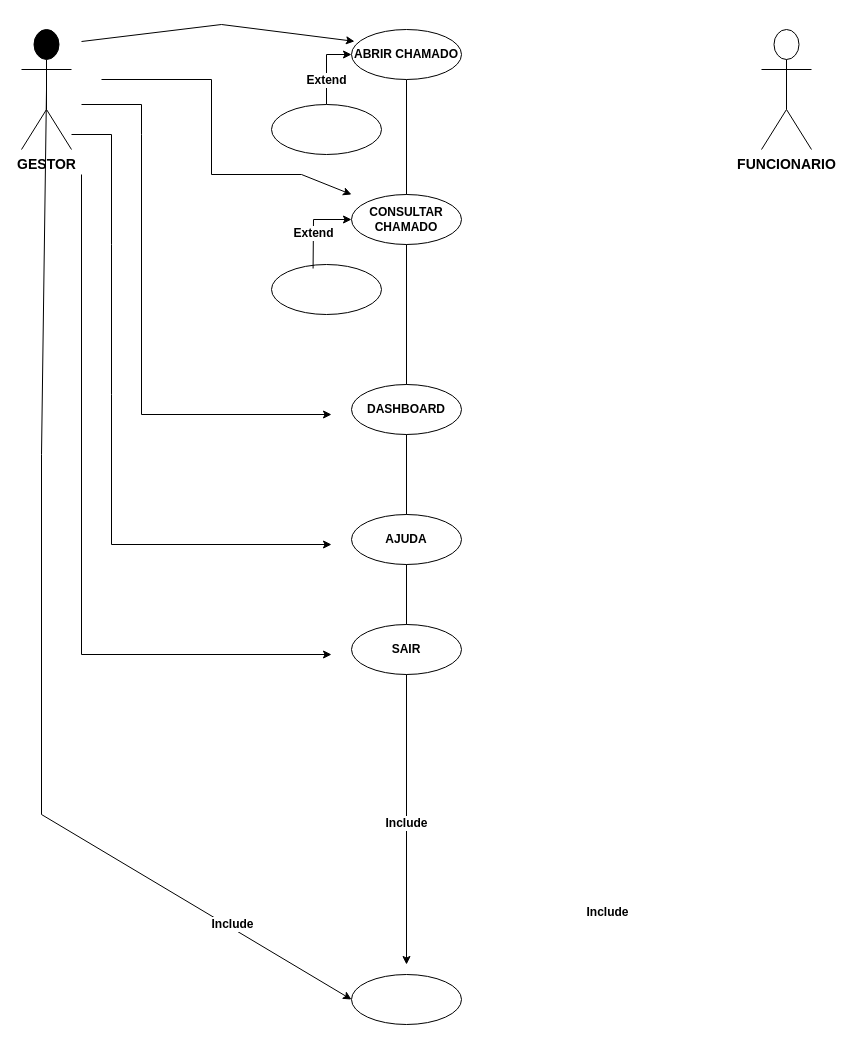
Some shapes in this 853 by 1042 pixel diagram are drawn without their labels. The centre of each missing label's shape, as x and y in pixels:
FILTRAR: (x=326, y=289)
LIMPAR: (x=326, y=129)
LOGIN E AUTENTICAÇÃO: (x=406, y=999)
